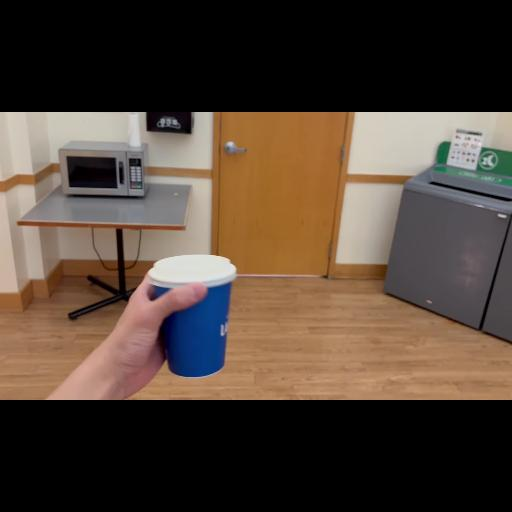lp_paper_cup: (134, 250, 248, 384)
